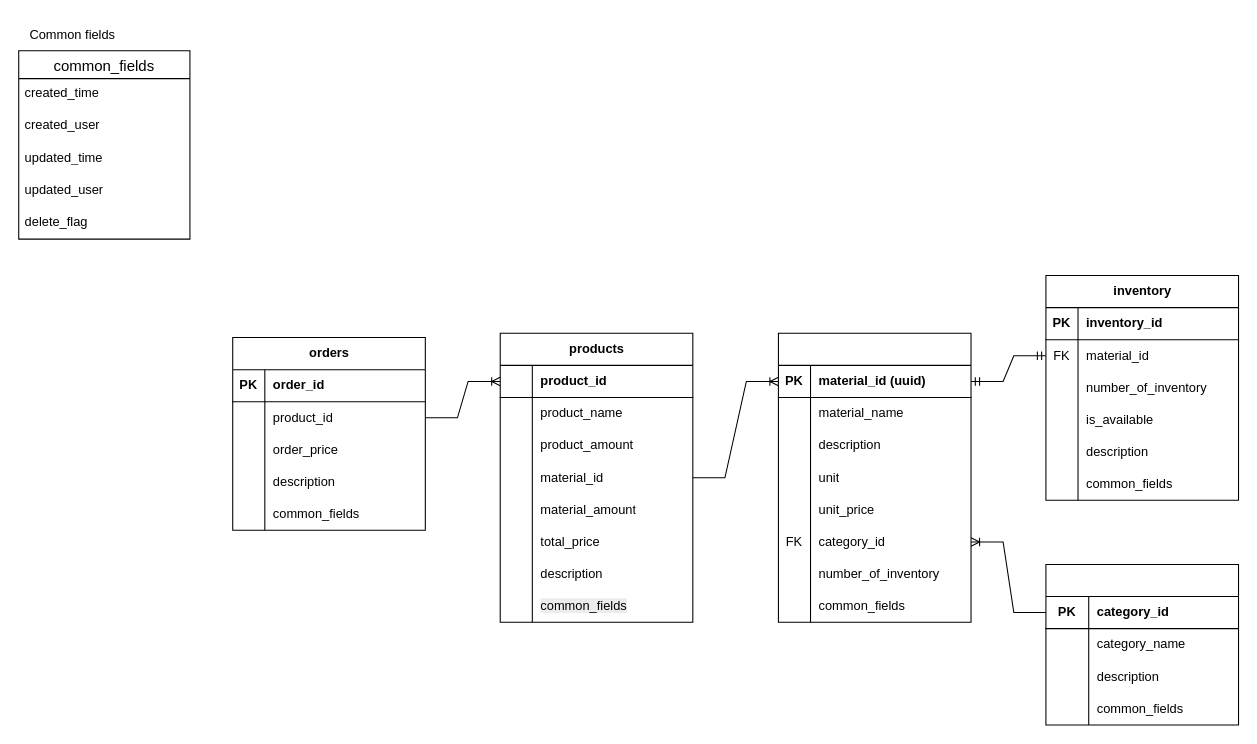
Image size: 1257x744. Some labels were removed from this diagram. The shapes that lost their labels are listed below. From the top down, each one's box as (x1, y1, x2, y2) in pixels, then its label:
(777, 332, 971, 622): materials
(1045, 563, 1239, 725): categories
